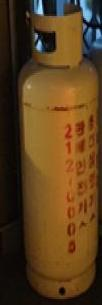cylinder: (1, 1, 102, 305)
